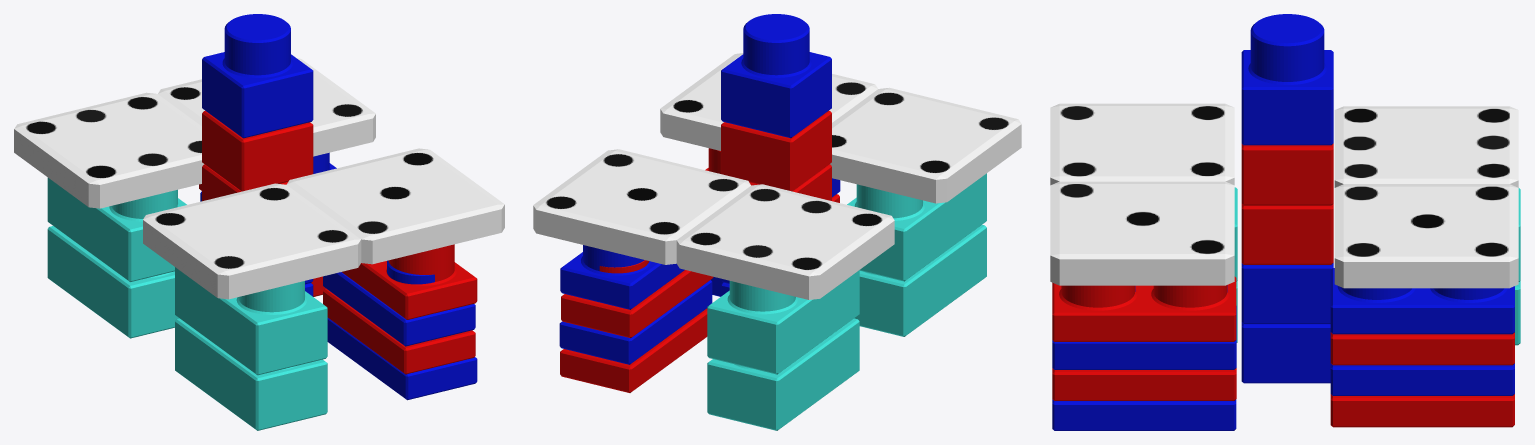
3 renders of one model, left to right at view 1: azimuth 30°, elevation 25°; view 2: azimuth 150°, elevation 25°; view 3: azimuth 270°, elevation 25°, orthographic. The views are drawn at different scales.
Parts seen in each view (by area): view 1: Dom.202_low_0.002, Dom.303_low_2, Cube.024, Cube.023, Cube.022, Cube.021, Cube.020, Cube.007, Cube.017, Cube.018, Cube.019, Cube.015; view 2: Dom.303_low_2, Dom.202_low_0.002, Cube.024, Cube.020, Cube.021, Cube.023, Cube.022, Cube.007, Cube.013, Cube.014, Cube.012, Cube.016; view 3: Dom.202_low_0.002, Dom.303_low_2, Cube.024, Cube.007, Cube.005, Cube.017, Cube.013, Cube.012, Cube.014, Cube.016, Cube.019, Cube.015 (+1 smaller).
Boxes of the visible parts, <box> form: Dom.202_low_0.002: <box>143,148,504,299</box>; Dom.303_low_2: <box>14,58,375,208</box>; Cube.024: <box>202,14,313,138</box>; Cube.023: <box>175,267,327,375</box>; Cube.022: <box>175,318,327,430</box>; Cube.021: <box>47,226,179,338</box>; Cube.020: <box>47,177,186,282</box>; Cube.007: <box>202,111,313,201</box>; Cube.017: <box>342,244,477,319</box>; Cube.018: <box>323,260,475,346</box>; Cube.019: <box>323,288,475,374</box>; Cube.015: <box>327,318,477,400</box>; Dom.303_low_2: <box>533,149,894,299</box>; Dom.202_low_0.002: <box>660,53,1021,203</box>; Cube.024: <box>721,14,831,138</box>; Cube.020: <box>707,270,859,374</box>; Cube.021: <box>707,318,859,430</box>; Cube.023: <box>847,173,986,281</box>; Cube.022: <box>854,224,986,336</box>; Cube.007: <box>721,110,831,200</box>; Cube.013: <box>560,245,684,309</box>; Cube.014: <box>561,260,713,338</box>; Cube.012: <box>560,308,707,392</box>; Cube.016: <box>559,280,712,364</box>; Dom.202_low_0.002: <box>1050,103,1234,285</box>; Dom.303_low_2: <box>1334,106,1518,288</box>; Cube.024: <box>1241,14,1333,145</box>; Cube.007: <box>1241,143,1333,264</box>; Cube.005: <box>1241,263,1333,383</box>; Cube.017: <box>1052,276,1236,341</box>; Cube.013: <box>1330,268,1514,334</box>; Cube.012: <box>1330,394,1514,427</box>; Cube.014: <box>1330,332,1514,365</box>; Cube.016: <box>1330,363,1514,395</box>; Cube.019: <box>1052,368,1236,400</box>; Cube.015: <box>1052,399,1236,430</box>.
Size of the model in its own units: 4.01 by 4.09 by 5.1.
9 materials, 4 textured.
